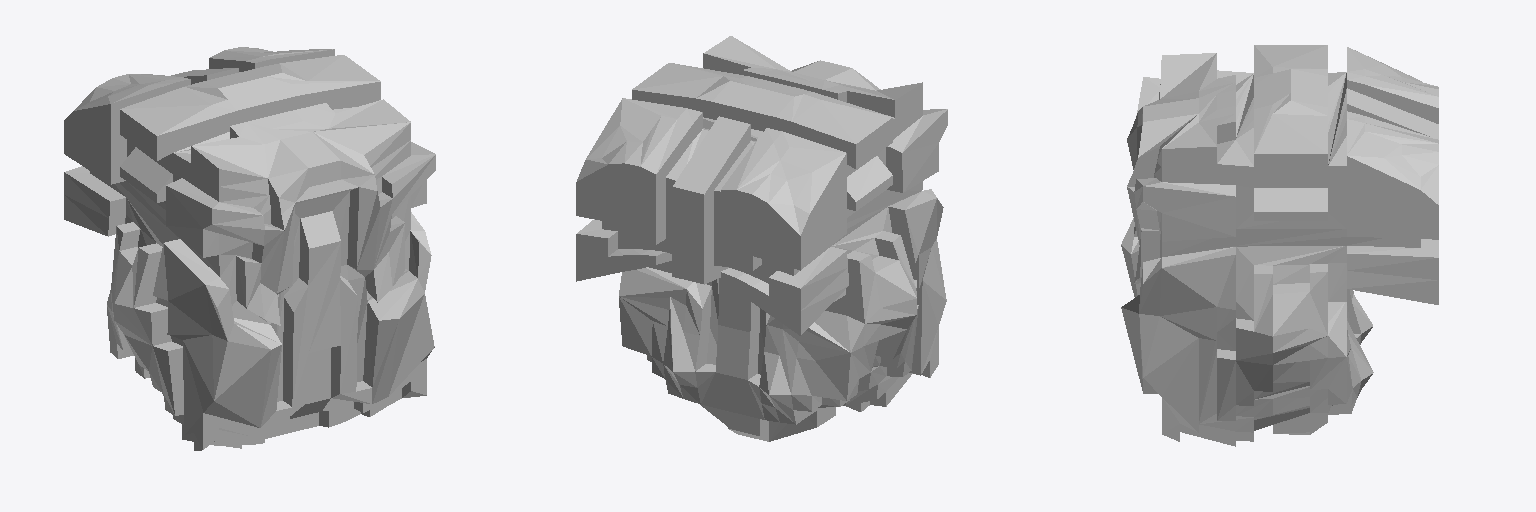
File: RocketBot_LOD0-2.obj
3 renders of one model, left to right at view 1: azimuth 30°, elevation 25°; view 2: azimuth 150°, elevation 25°; view 3: azimuth 270°, elevation 25°, orthographic.
Parts seen in each view (by area): view 1: RocketBot_LOD0-2; view 2: RocketBot_LOD0-2; view 3: RocketBot_LOD0-2.
Boxes of the visible parts, <box> form: RocketBot_LOD0-2: <box>64,47,435,450</box>; RocketBot_LOD0-2: <box>576,36,947,441</box>; RocketBot_LOD0-2: <box>1121,45,1438,446</box>.
Size of the model in its own units: 1.82 by 2.05 by 1.72.